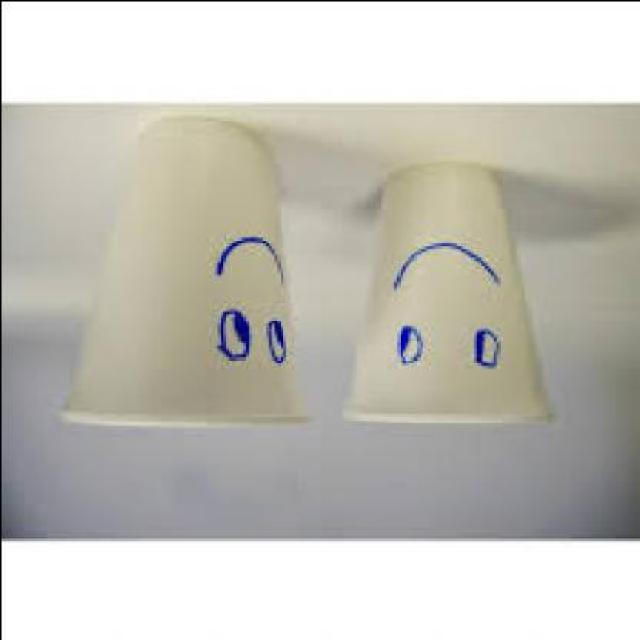PAPER: (57, 119, 305, 427), (339, 170, 546, 427)
